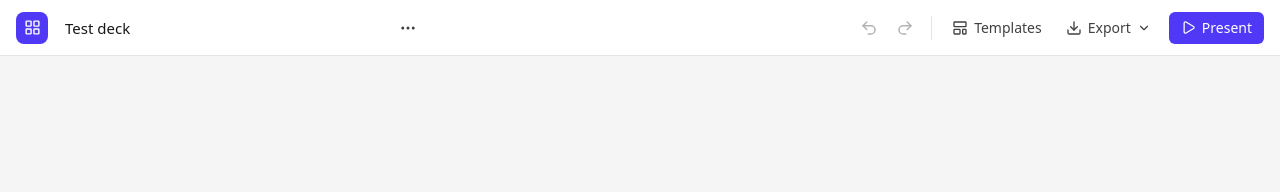
Test: Header › offers PDF, PowerPoint and web page exports
What coordinates should you click on to do the following:
click the button "Export"
I would click on:
 (1108, 28)
Its box is [1056,12,1161,44].
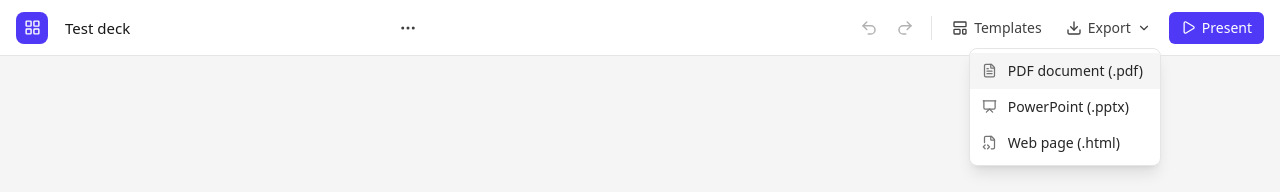
Expected: the menu items read "PDF document (.pdf)", "PowerPoint (.pptx)", "Web page (.html)", in this order, [970,52,1160,88]; [970,88,1160,124]; [970,124,1160,160]
